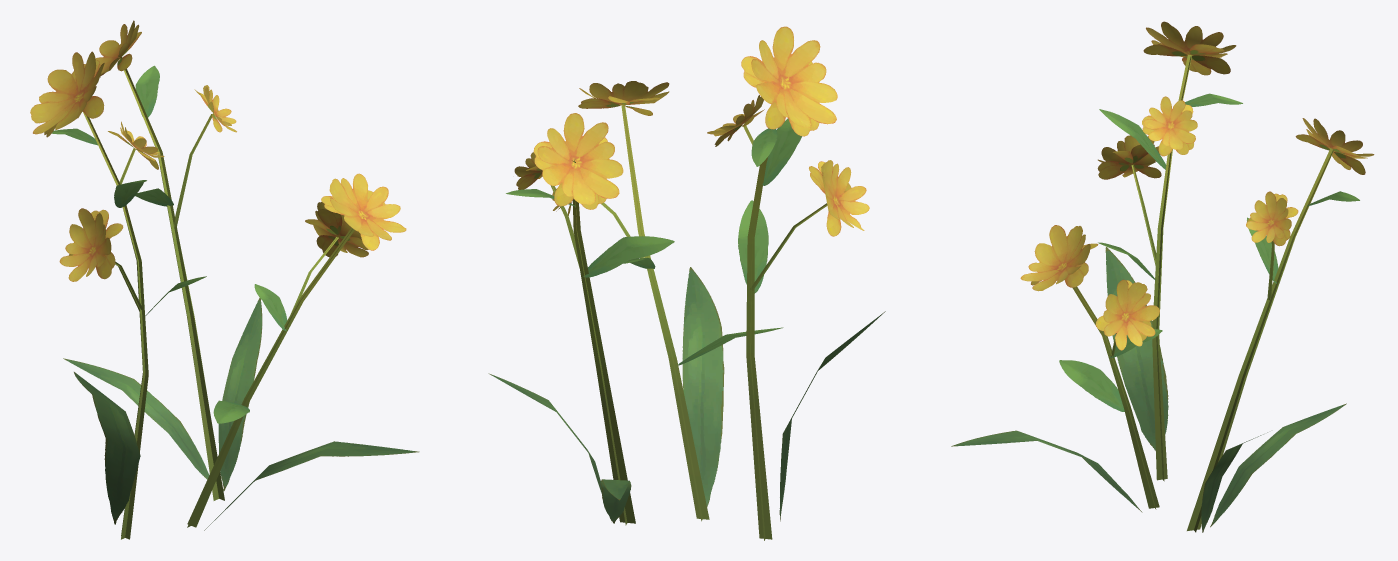
Rendered from Area_MdProps_Flower01_Vo.fbx.
3 renders of one model, left to right at view 1: azimuth 30°, elevation 25°; view 2: azimuth 150°, elevation 25°; view 3: azimuth 270°, elevation 25°, orthographic. The views are drawn at different scales.
Parts seen in each view (by area): view 1: Area_MdProps_Flower01_Vo; view 2: Area_MdProps_Flower01_Vo; view 3: Area_MdProps_Flower01_Vo.
Part boxes in pixels (x1,y1,x2,y2): Area_MdProps_Flower01_Vo: [30, 20, 419, 539]; Area_MdProps_Flower01_Vo: [488, 26, 885, 540]; Area_MdProps_Flower01_Vo: [951, 21, 1374, 532].
Bounding box in the file's own units: 0.3847 × 0.5837 × 0.4989.
1 material, 1 textured.
